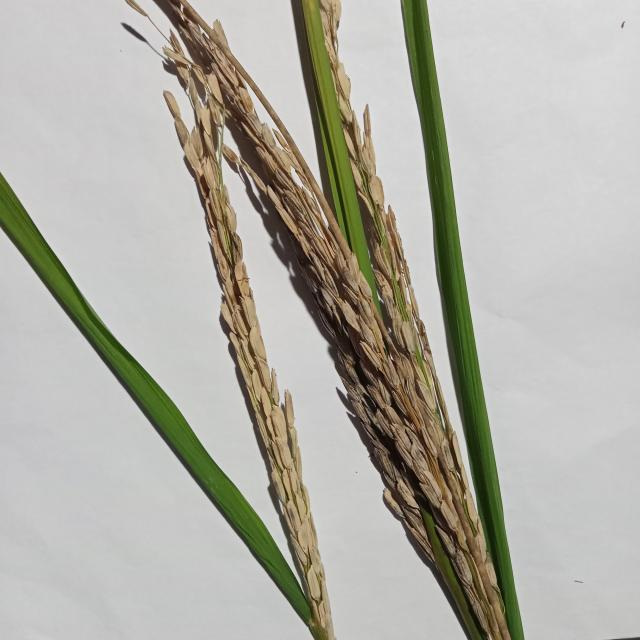Neck_Blast: (157, 0, 509, 640), (161, 62, 330, 640)
